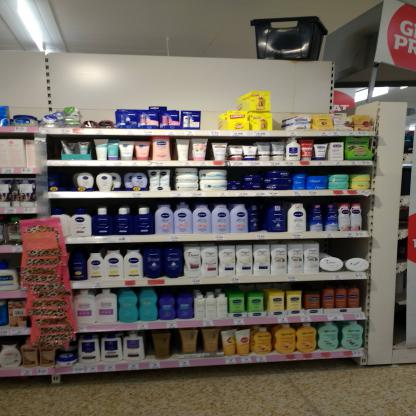Void: (328, 242, 360, 256), (51, 168, 79, 182), (203, 111, 222, 128), (49, 137, 61, 159), (274, 112, 286, 129)
